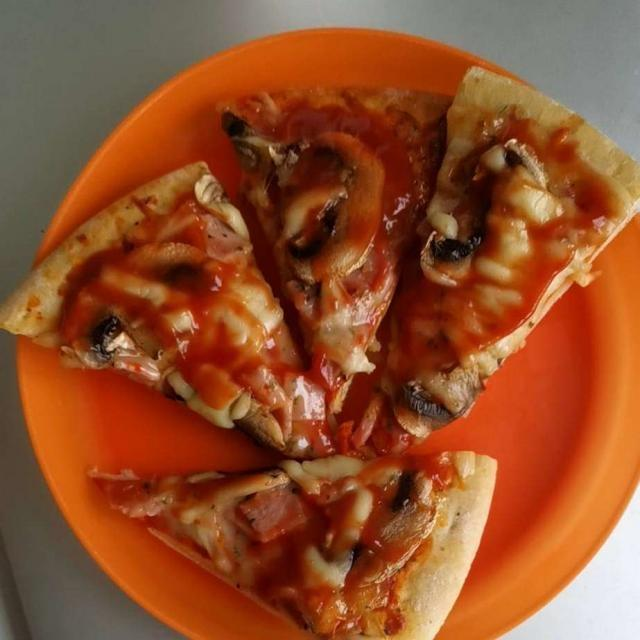pizza: (22, 80, 623, 625)
